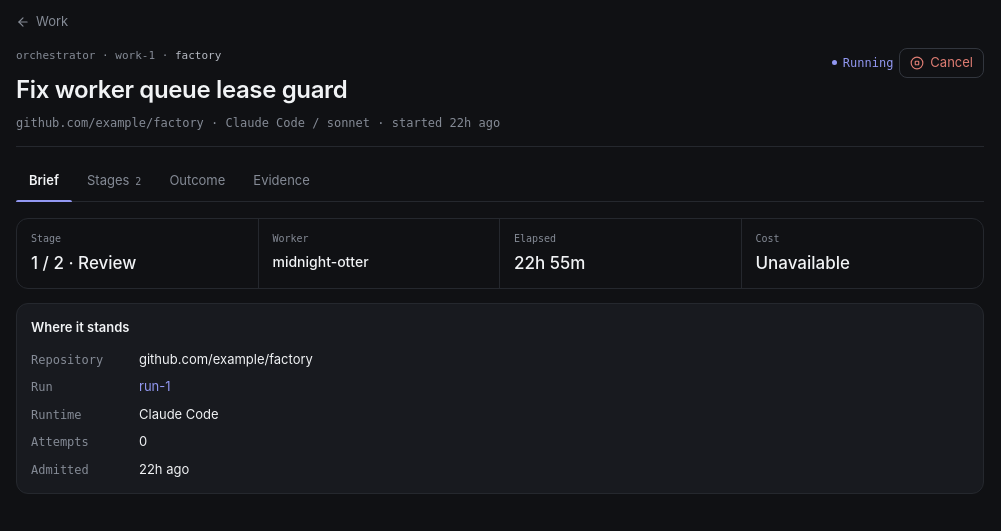
Test case: Work detail › distinguishes a stage that never delivered from one that delivered nothing
This screenshot has width=1001, height=531.
Click the tab "Stages2": point(114, 181) [74,161,154,200]
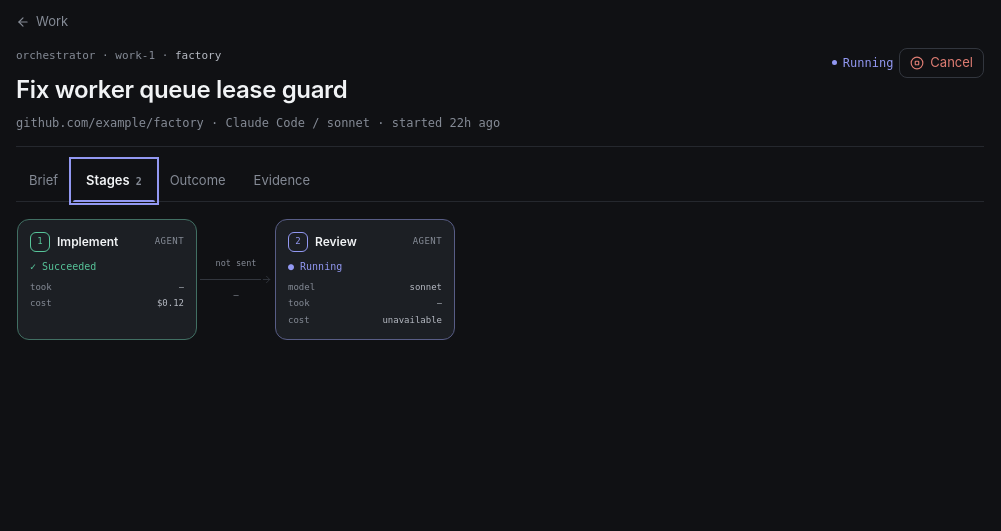
Click the button with aria-label "No evidence passed from Implement": point(236, 279) [200,257,272,302]
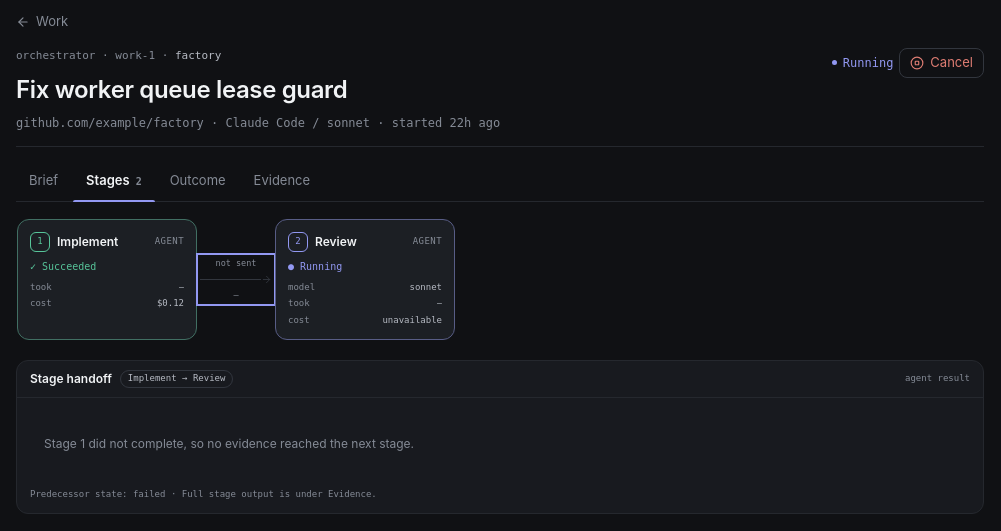
Expected: the text "did not complete, so no evidence reached the next stage" is shown, [85,436,414,451]
